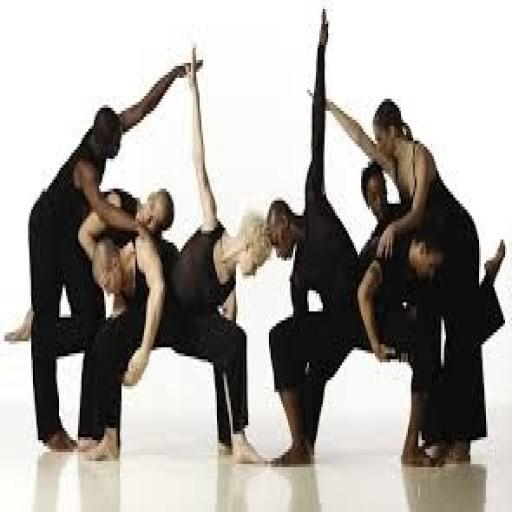dancing: (159, 26, 464, 512), (10, 45, 205, 458)
